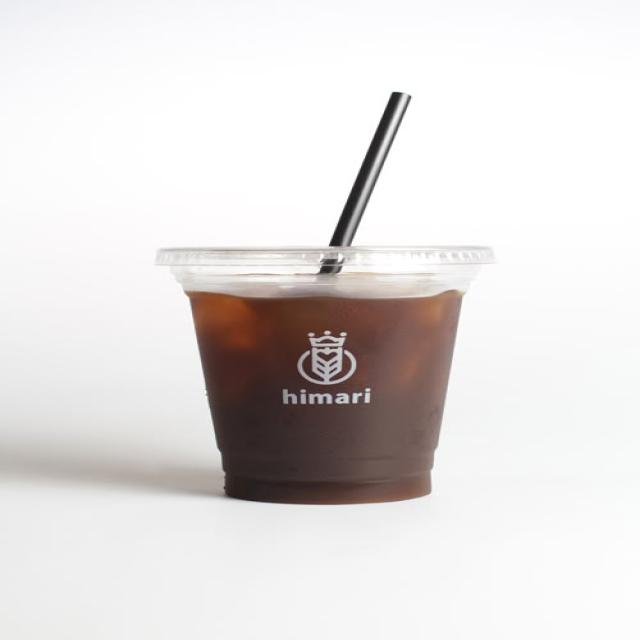plastic cup: (152, 246, 500, 504)
